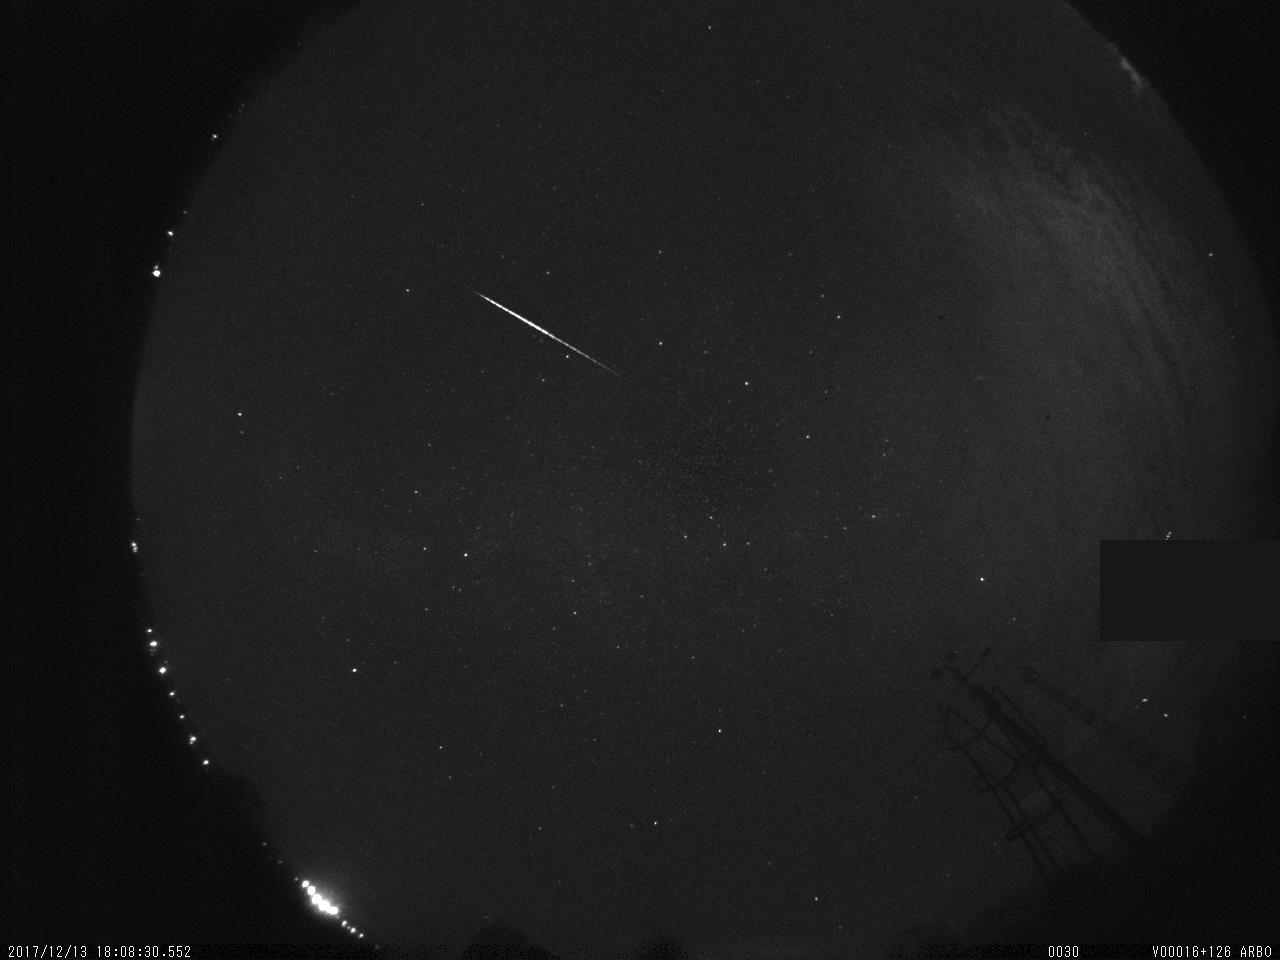meteor: (458, 279, 633, 385)
